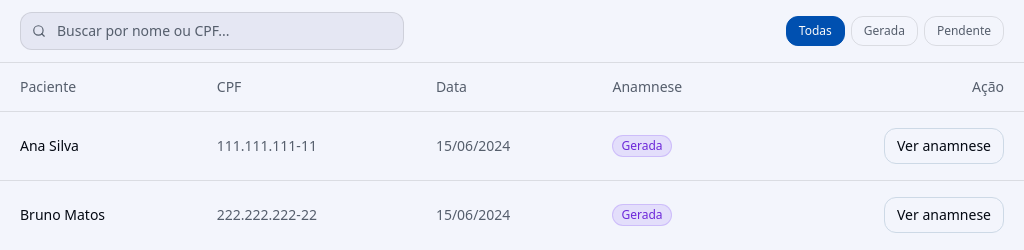
Test: HistoryClient — tabela de atendimentos › exibe mensagem quando busca não retorna resultados
Type "zzzninguem" into the search field with placeholder "Buscar por nome ou CPF..." at (212, 31), box [20,12,404,50]
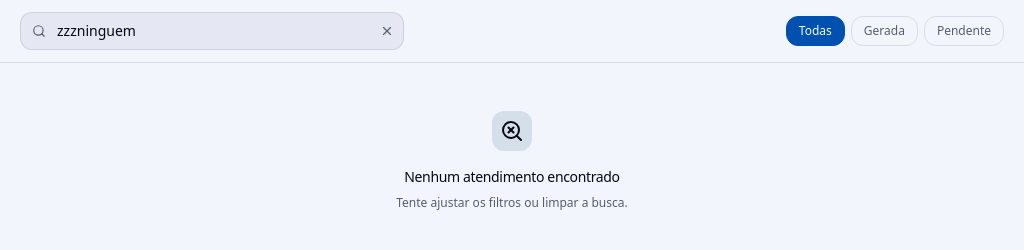
Expected: the text "Nenhum atendimento encontrado" is shown, [404,167,620,187]
